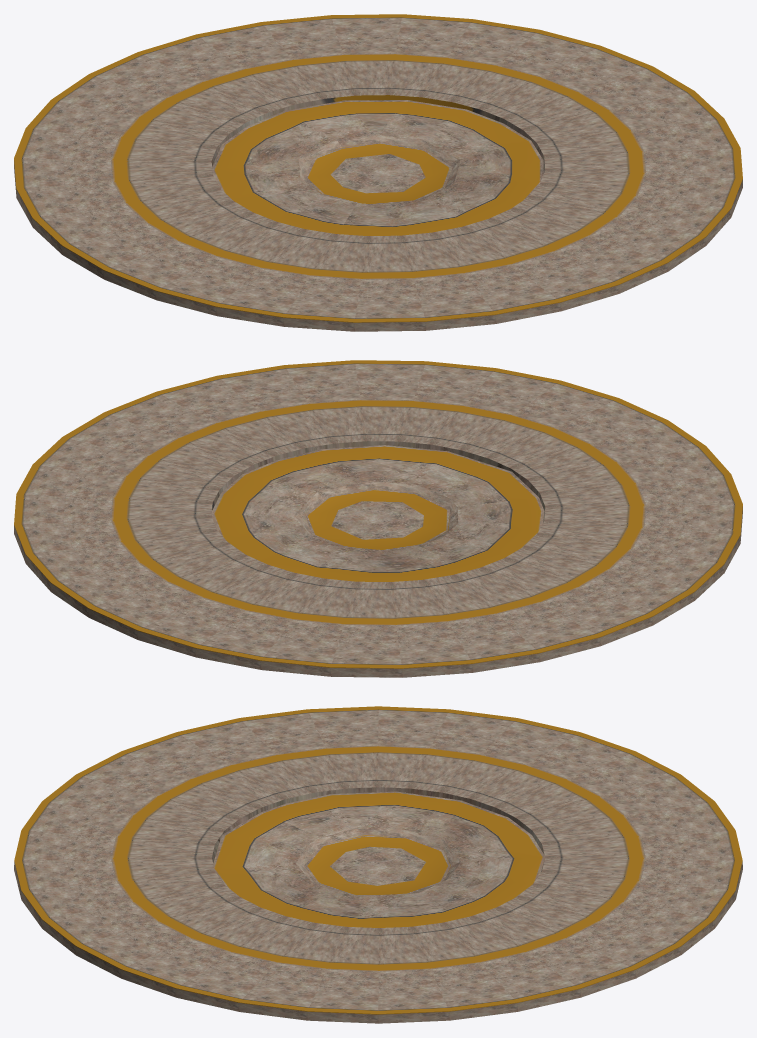
Rendered from SM_Circular_Floor_Top.gltf.
3 renders of one model, top to bottom at view 1: azimuth 30°, elevation 25°; view 2: azimuth 150°, elevation 25°; view 3: azimuth 270°, elevation 25°, orthographic.
Visible parts, largest first — view 1: SM_WetHallProps_JFG_RoundTop_Floor_M_Trim_JFG_Rocks_Wet_0; view 2: SM_WetHallProps_JFG_RoundTop_Floor_M_Trim_JFG_Rocks_Wet_0; view 3: SM_WetHallProps_JFG_RoundTop_Floor_M_Trim_JFG_Rocks_Wet_0.
Part boxes in pixels (bbox=[...]): SM_WetHallProps_JFG_RoundTop_Floor_M_Trim_JFG_Rocks_Wet_0: bbox=[14, 14, 742, 331]; SM_WetHallProps_JFG_RoundTop_Floor_M_Trim_JFG_Rocks_Wet_0: bbox=[14, 360, 742, 677]; SM_WetHallProps_JFG_RoundTop_Floor_M_Trim_JFG_Rocks_Wet_0: bbox=[14, 706, 742, 1023].
Bounding box in the file's own units: 9.65 × 0.1777 × 9.66.
Materials: 1 (1 with a texture image).
